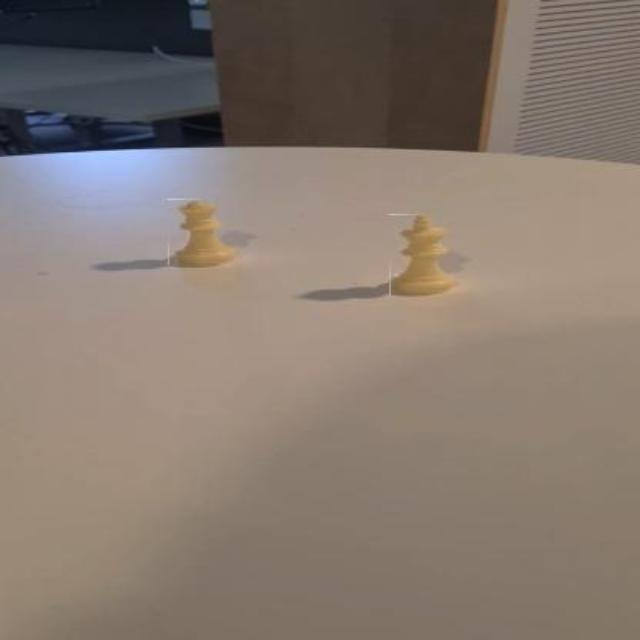white-king: (391, 213, 457, 296)
white-queen: (169, 199, 241, 266)
